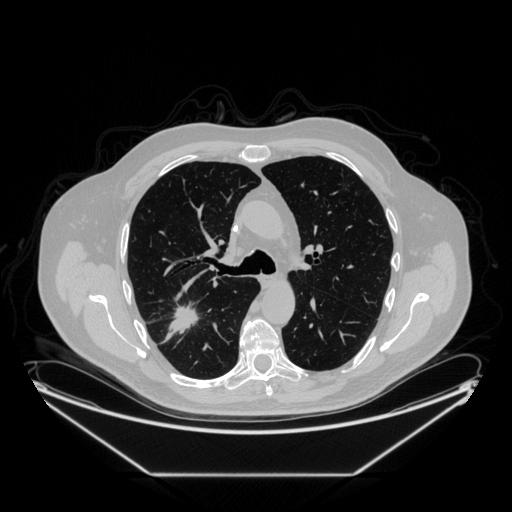nodule: (168, 303, 201, 336)
